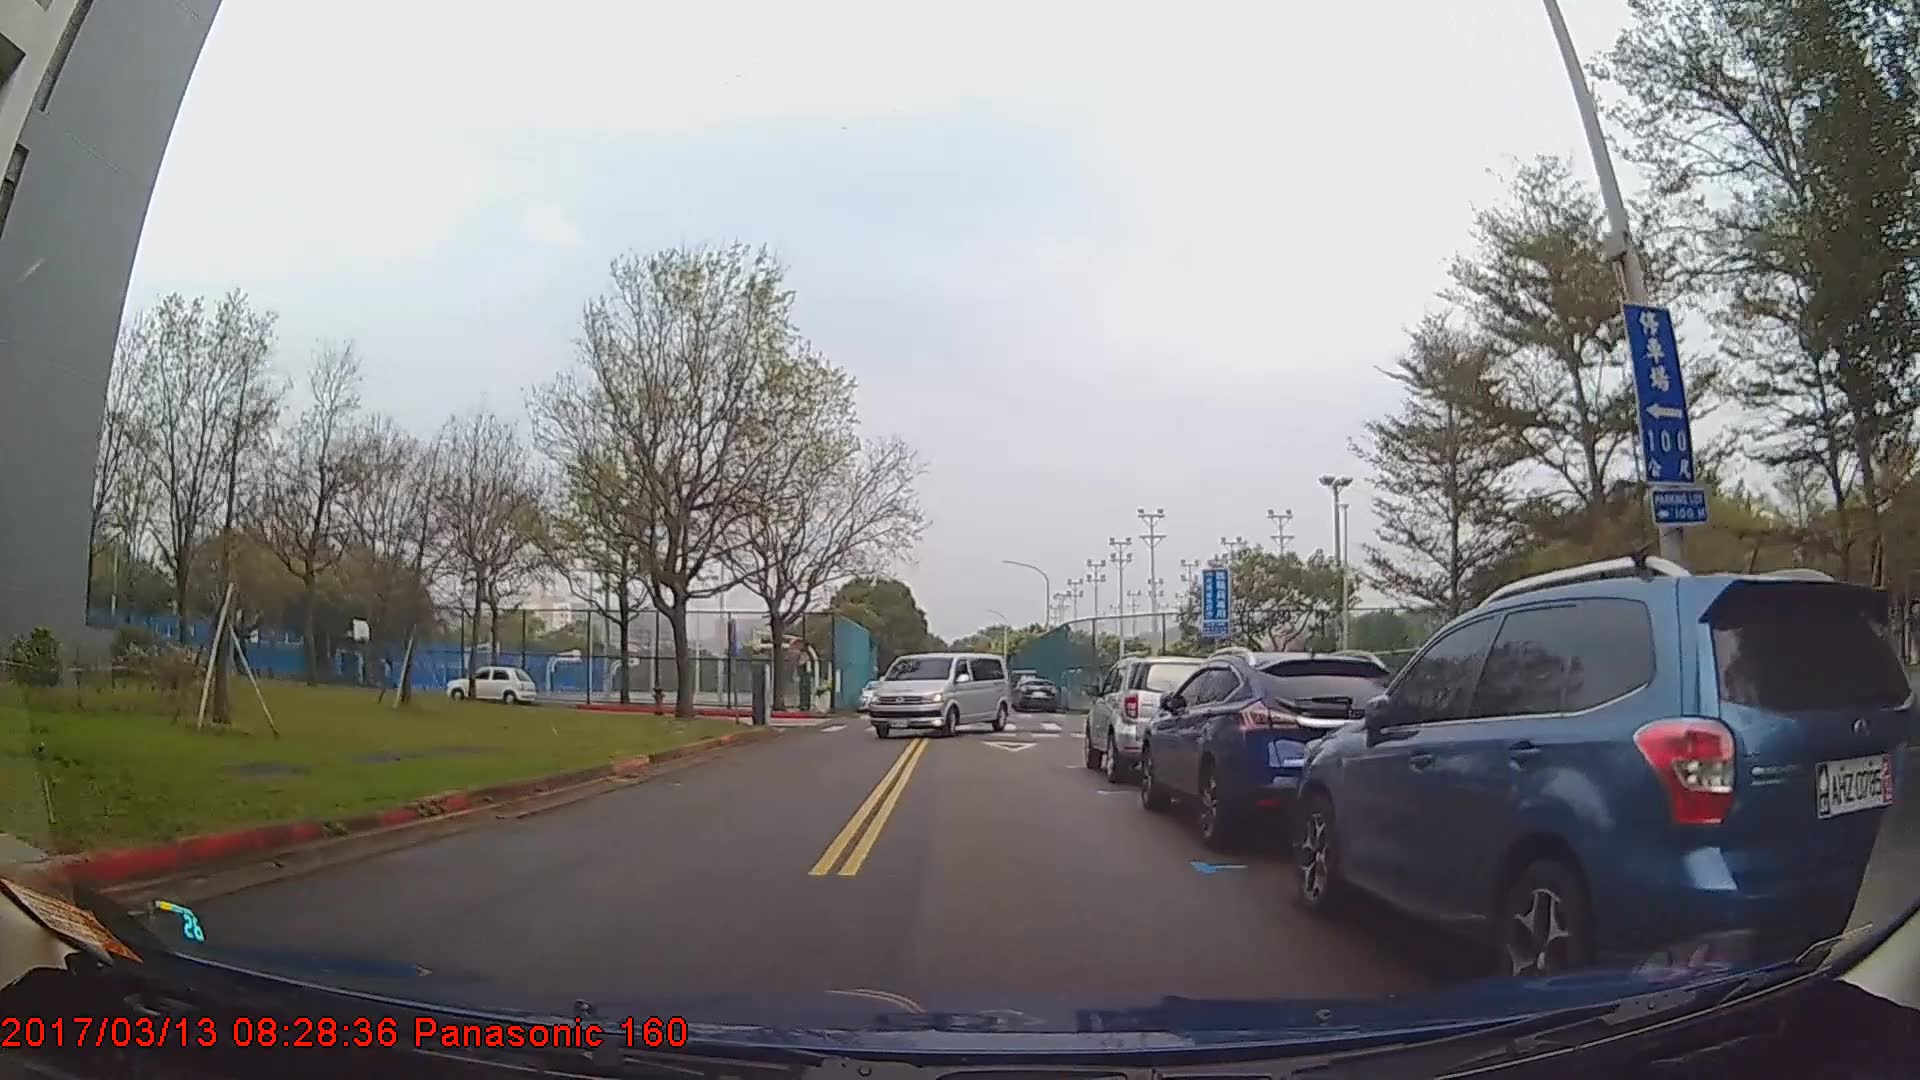vehicle: (1288, 568, 1920, 1006), (1135, 649, 1410, 847), (1084, 655, 1222, 782), (866, 650, 1011, 742), (447, 666, 534, 702), (1013, 675, 1059, 713)
